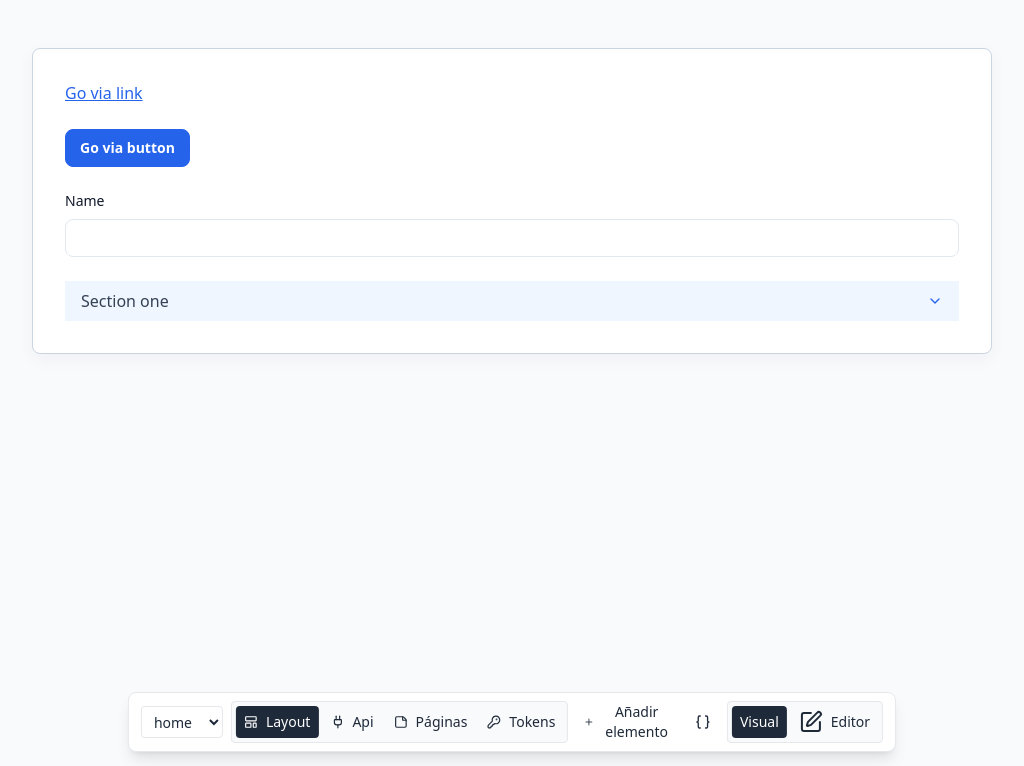
Test: DevRuntime / interactive nodes keep working in editor mode (spec FR11) › an accordion still toggles aria-expanded when its header is clicked; children stay in the DOM
This screenshot has width=1024, height=766.
Click the button with test id "dev-editor-toolbar-mode-editor": (834, 722) [791, 706, 878, 738]
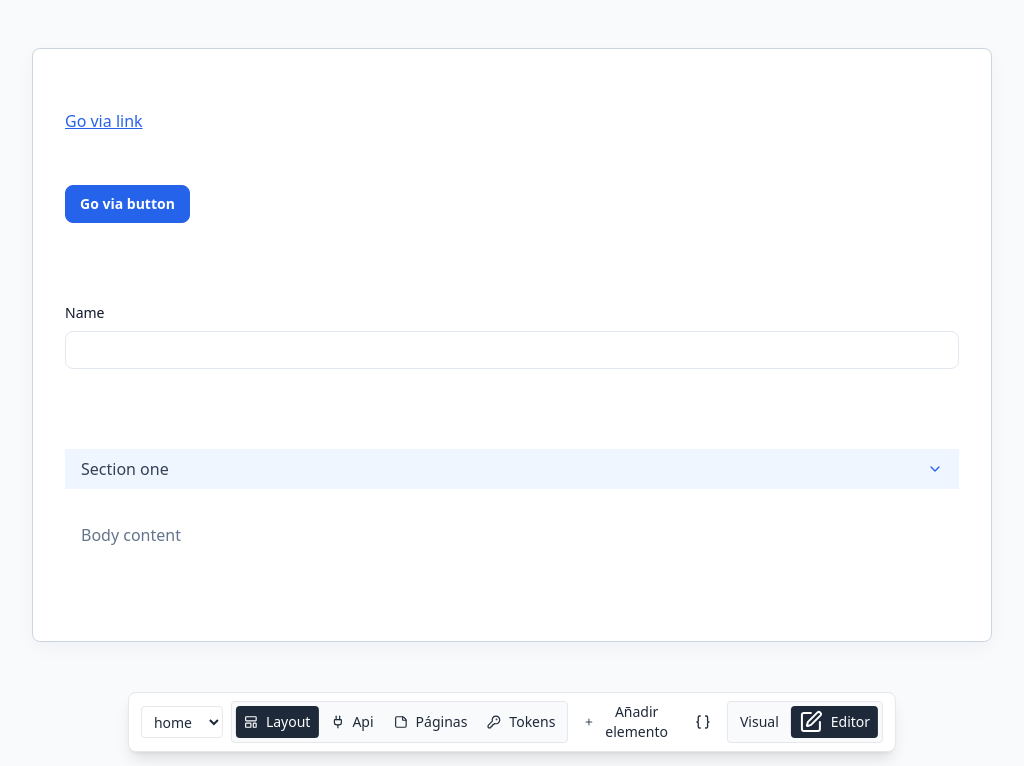
Result: the text "Body content" is shown at [81, 524, 181, 546]
Click the button "Section one": (125, 469) [65, 449, 959, 489]
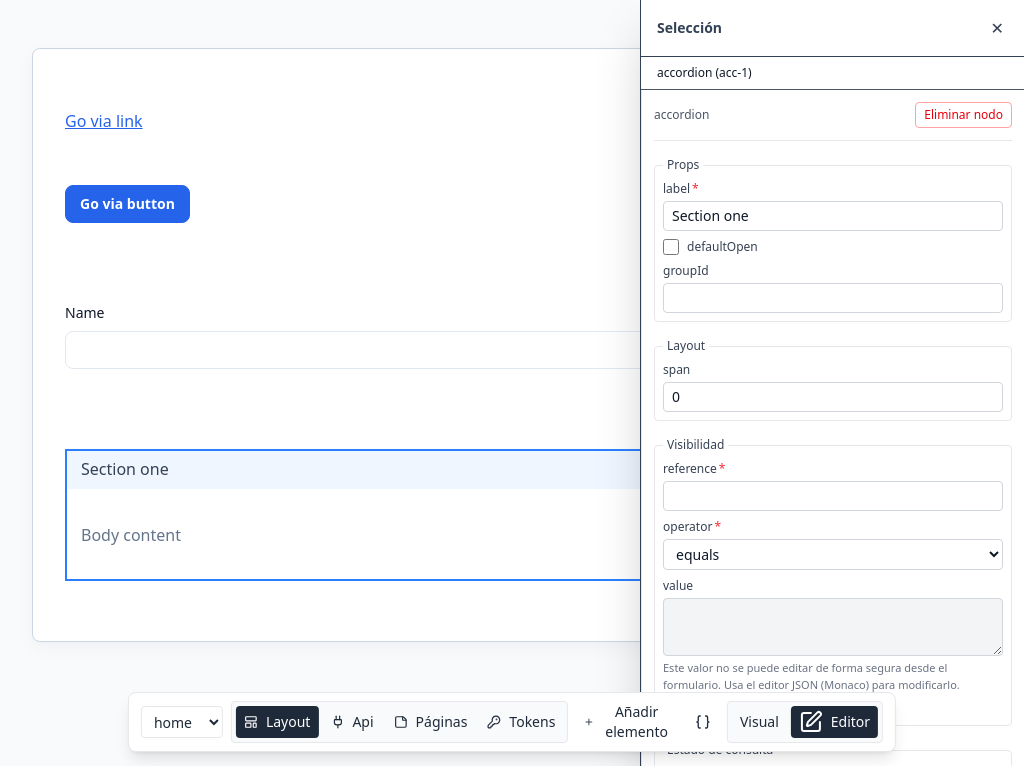
Result: the text "Body content" is shown at [81, 524, 181, 546]
Result: the button "Section one" is expanded at [65, 449, 959, 489]
